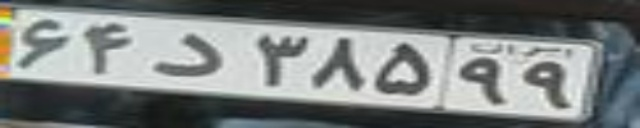3: (257, 34, 307, 87)
4: (84, 21, 132, 73)
5: (376, 41, 430, 95)
6: (17, 18, 70, 71)
8: (311, 37, 364, 92)
9: (522, 61, 572, 108), (456, 57, 506, 103)
dal: (152, 33, 226, 77)
